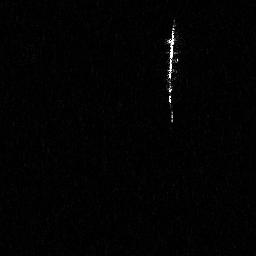ship: (166, 15, 182, 126)
